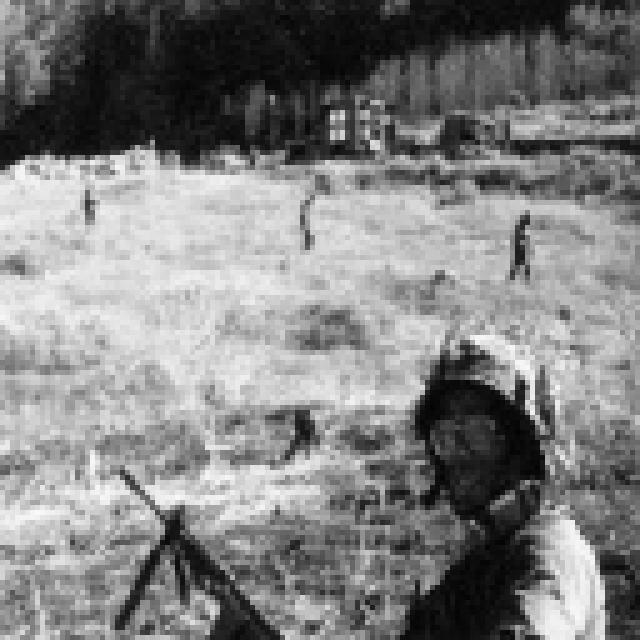Rifle: (78, 449, 305, 640)
